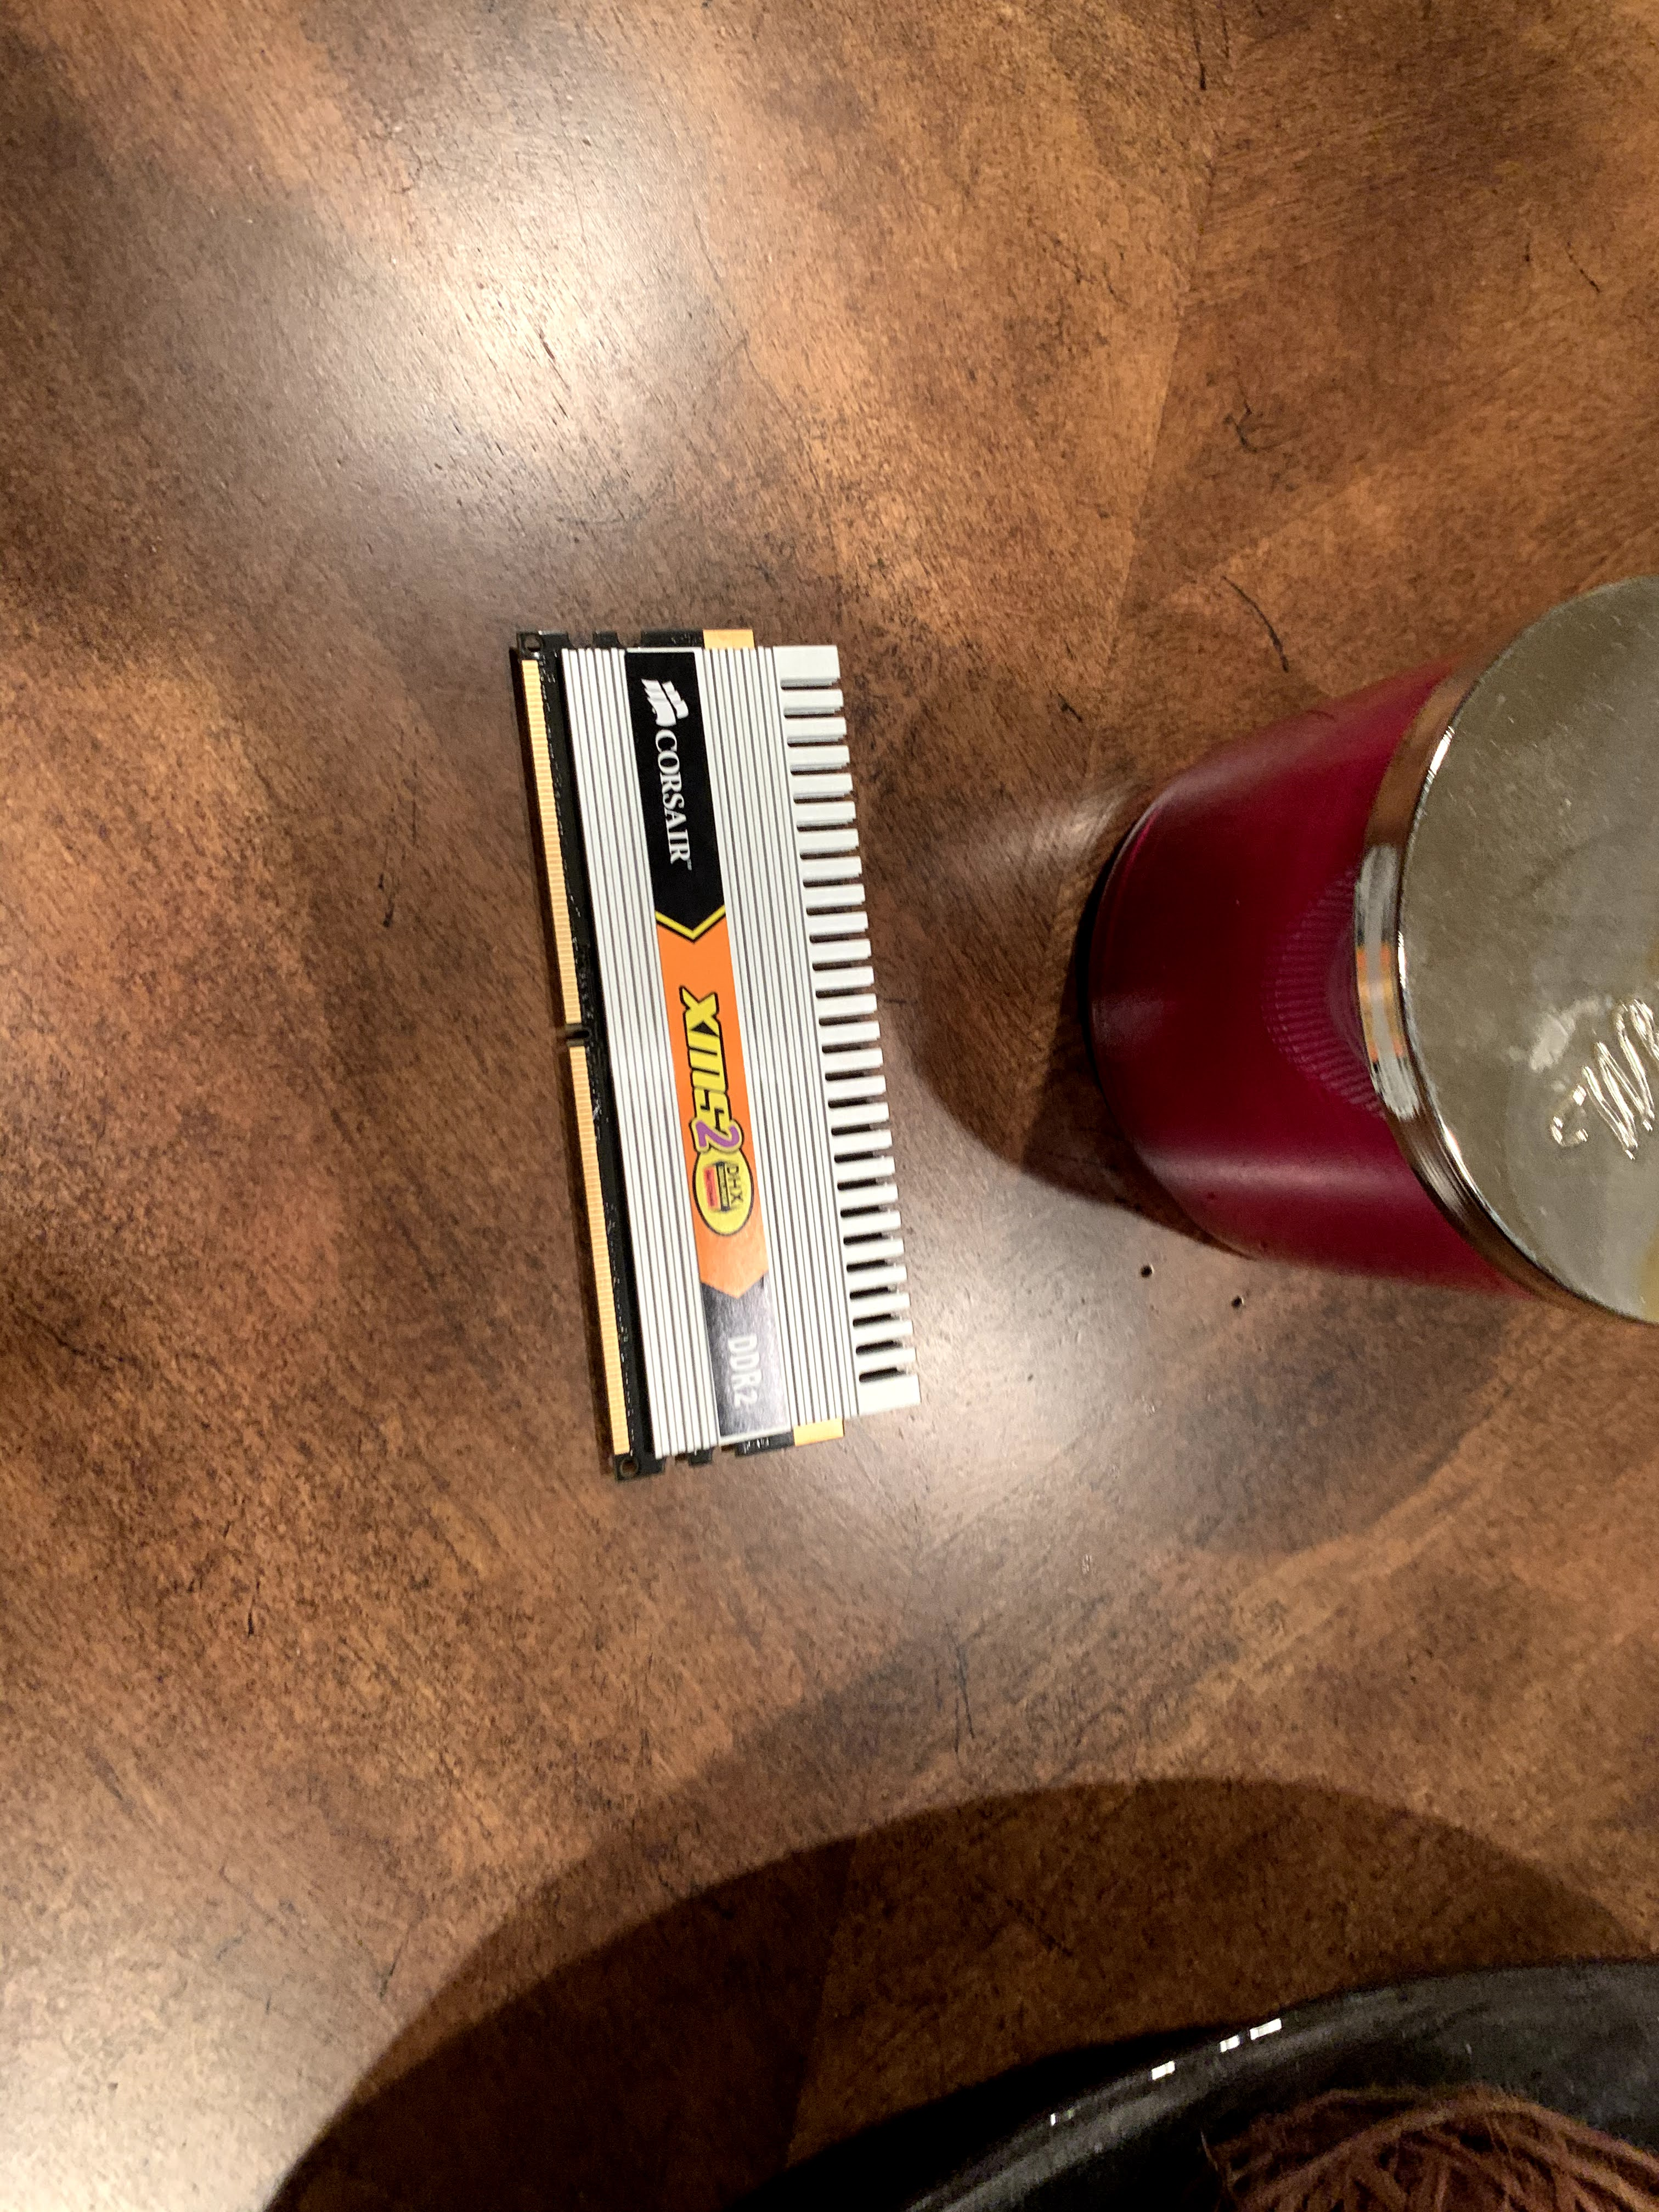Space-debris-medium: (464, 585, 1014, 1480)
